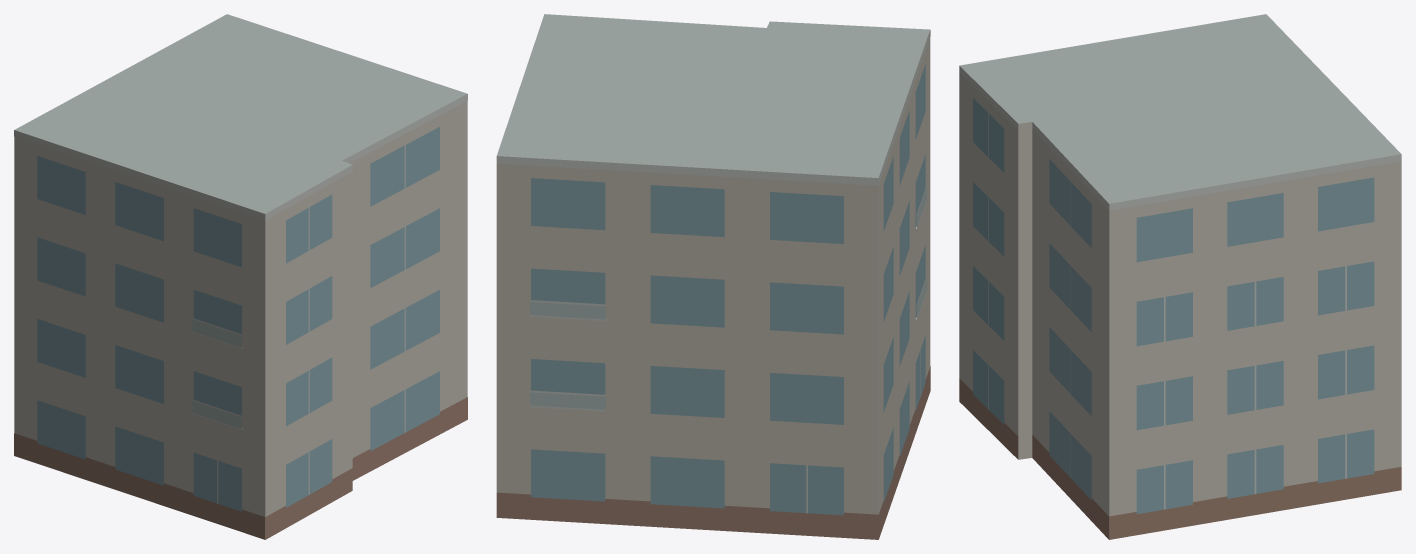
Rendered from survey-upis-32866933.glb.
The picture shows the model from 3 angles, left to right: view 1: azimuth 30°, elevation 25°; view 2: azimuth 150°, elevation 25°; view 3: azimuth 270°, elevation 25°; orthographic projection. The views are drawn at different scales.
Visible parts, largest first — view 1: survey-upis-32866933.tmp; view 2: survey-upis-32866933.tmp; view 3: survey-upis-32866933.tmp.
Part boxes in pixels (left/top/right/bottom): survey-upis-32866933.tmp: left=14, top=14, right=467, bottom=539; survey-upis-32866933.tmp: left=496, top=14, right=930, bottom=539; survey-upis-32866933.tmp: left=959, top=14, right=1401, bottom=539.
Size of the model in its own units: 14.25 by 11.75 by 14.03.
